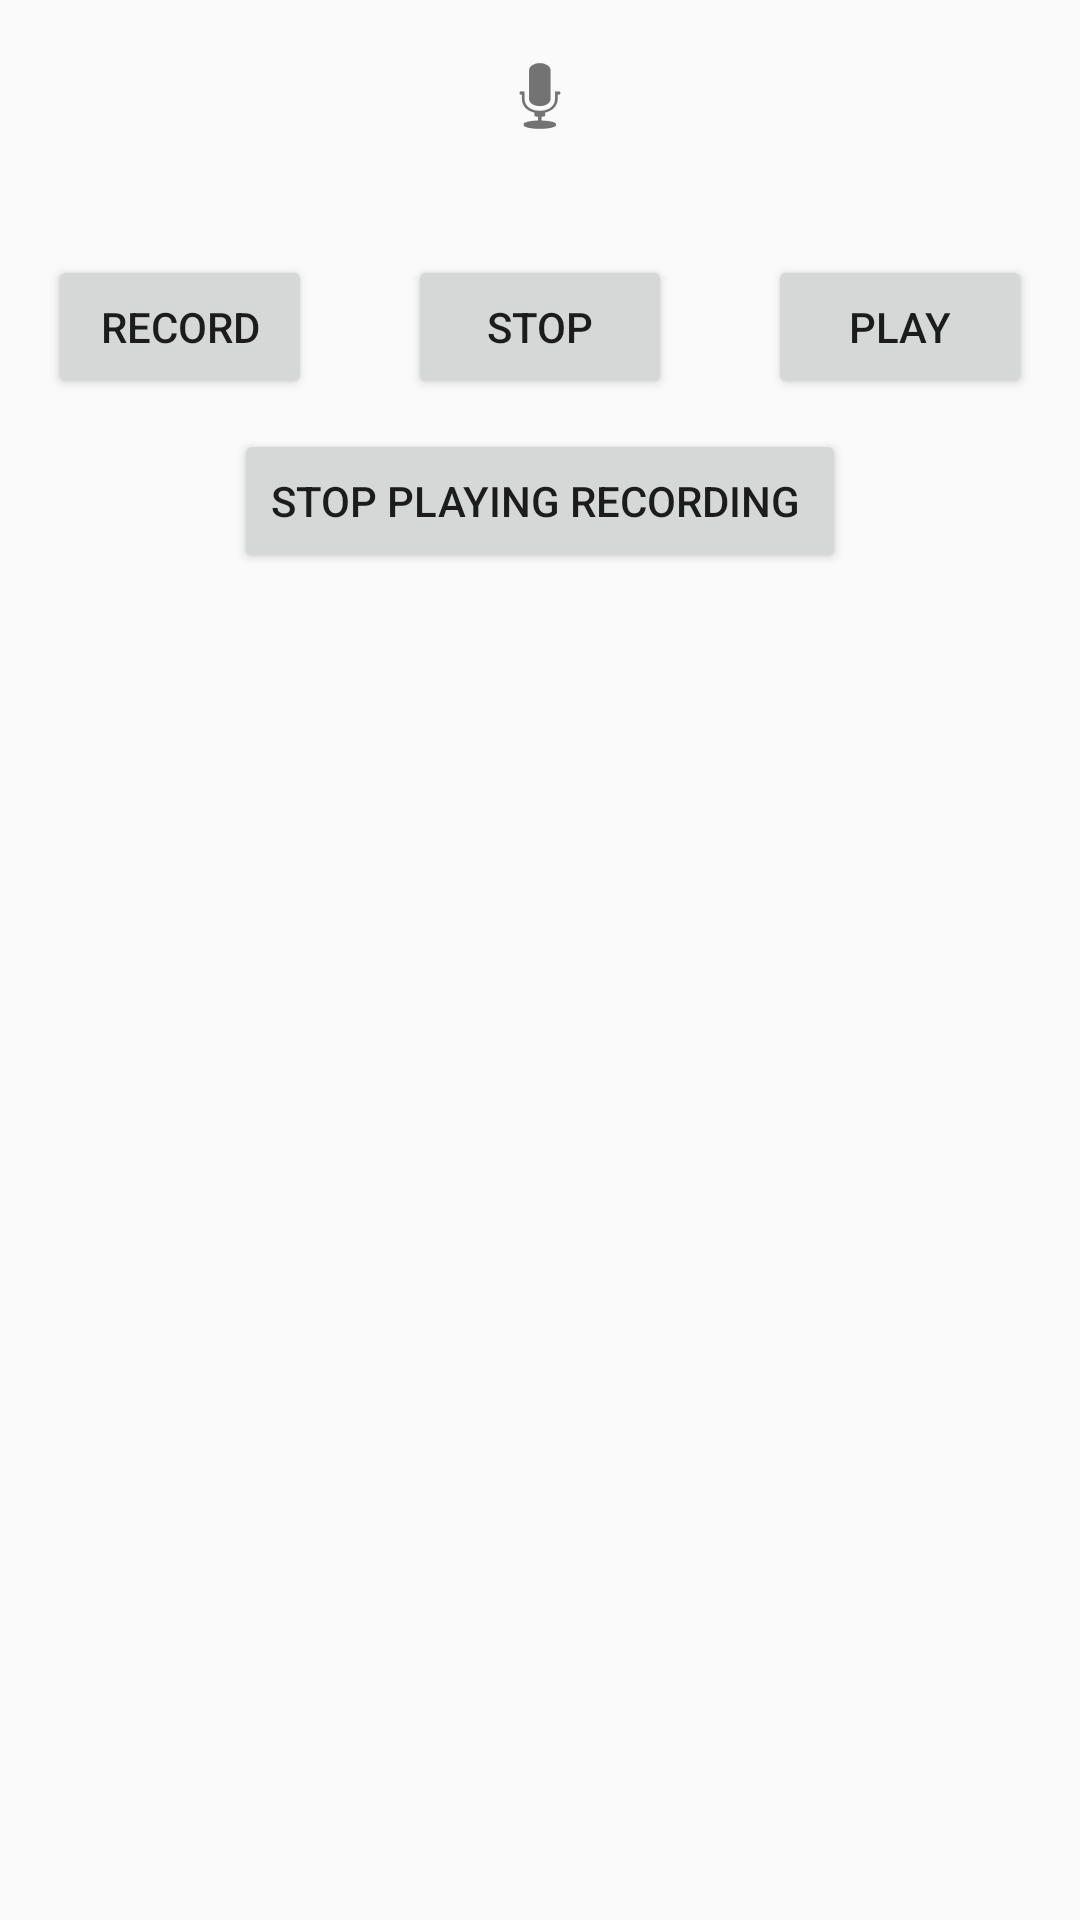

Icons on this 1080 x 1920 Android screen, each with the point to tap as point (x, y):
speak now: point (540, 96)
